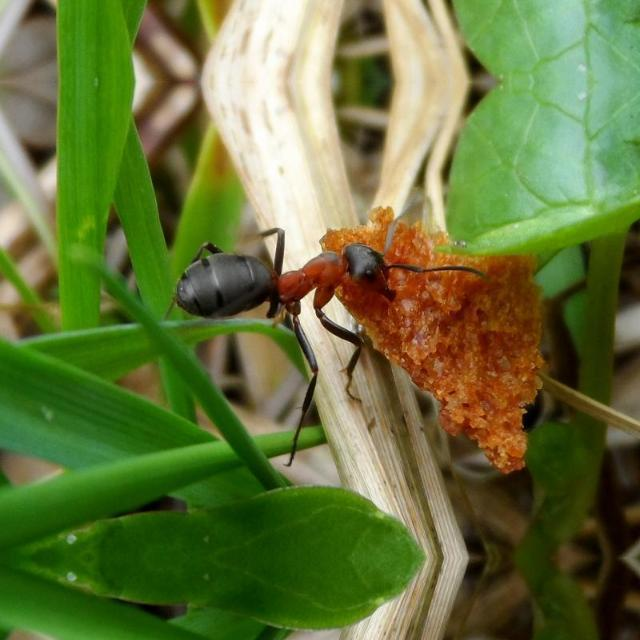Formica: (186, 204, 414, 338)
